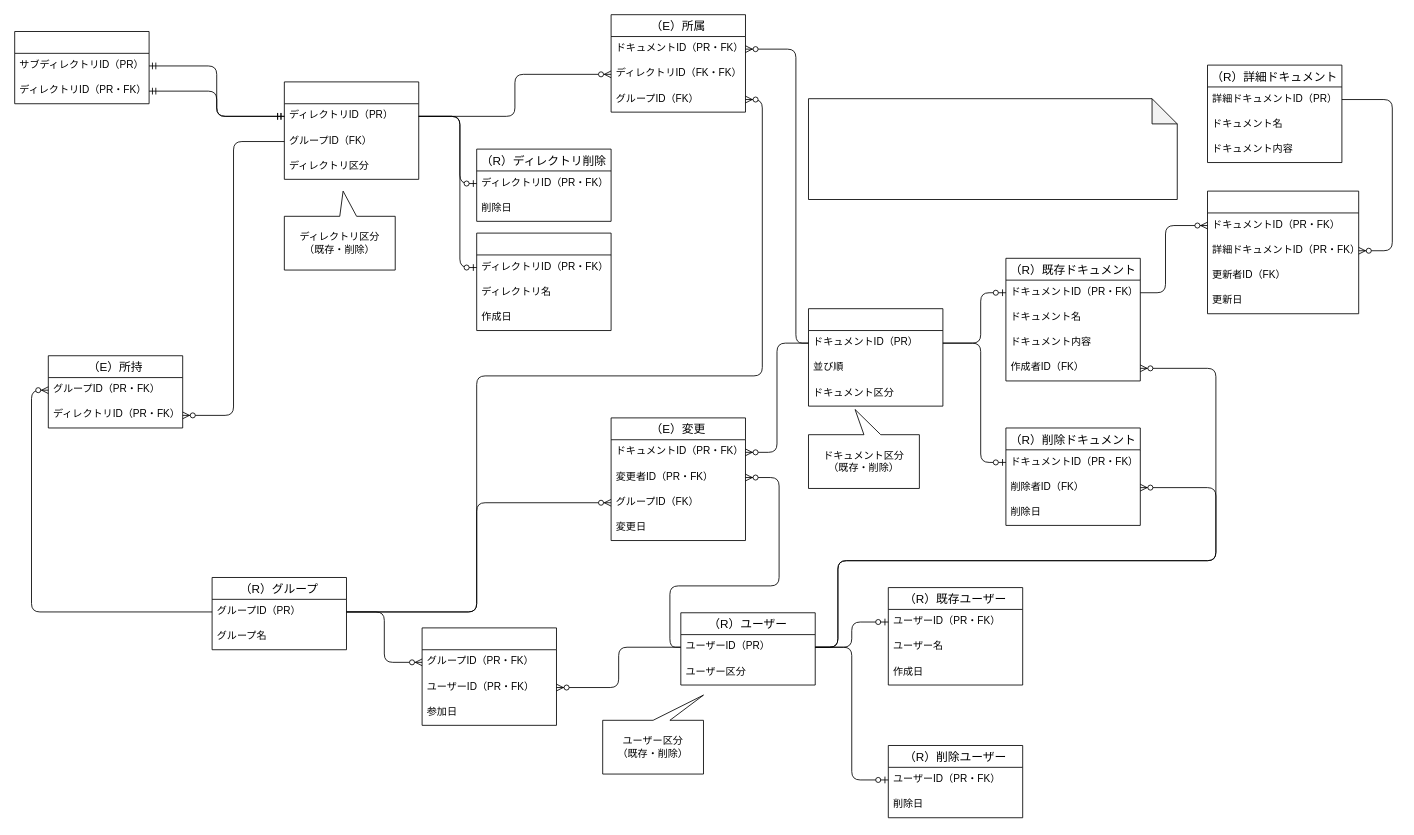
Image size: 1414x835. Some labels were removed from this diagram. The shapes that lost their labels are listed below. From the top down, each one's box as (x1, y1, x2, y2) in pixels, then its label:
(14, 31, 149, 104): （R）サブディレクトリ
(284, 81, 419, 179): （R）ディレクトリ
(808, 98, 1177, 200): 並び順を追加 移動対象のドキュメントは、移動先の番号にUPDATE 移動先の番号が振られていたドキュメントは、移動元の番号にUPDATE
(1207, 190, 1359, 314): （E）更新
(476, 232, 611, 331): （R）既存ディレクトリ
(808, 308, 943, 406): （R）ドキュメント
(421, 627, 556, 725): （E）参加
